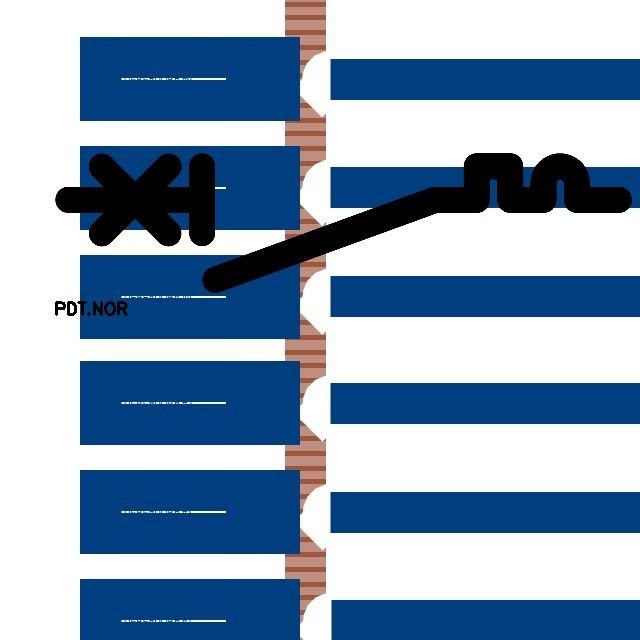interruptor_termomagnetico: (54, 152, 633, 294)
